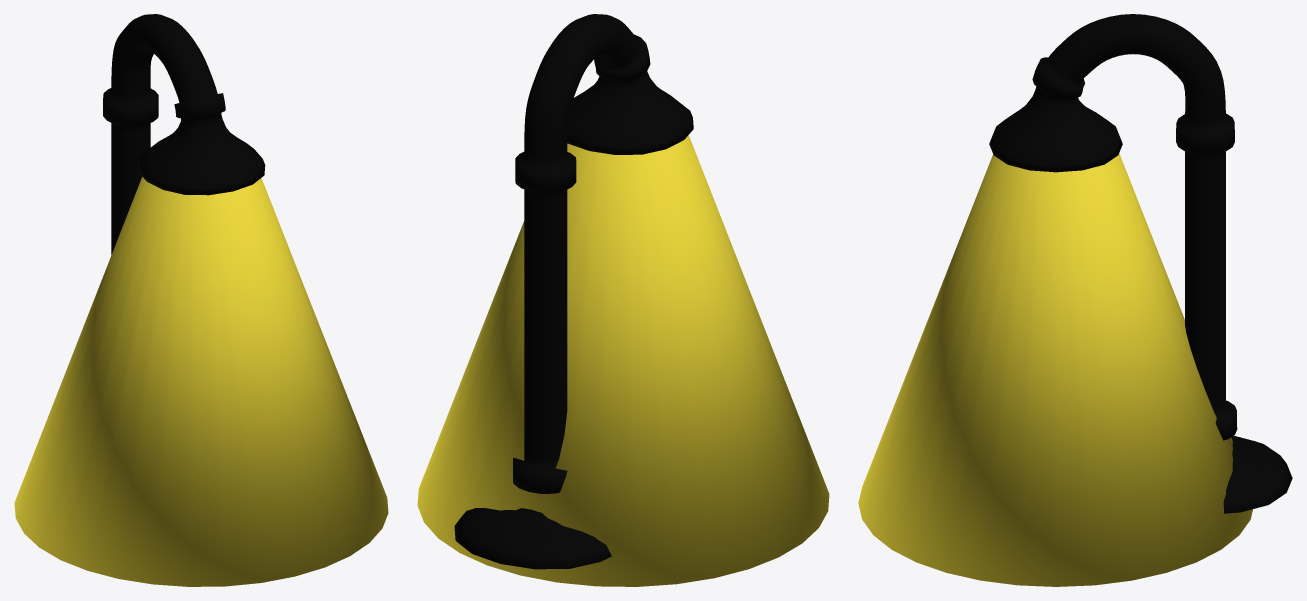
Rendered from Streetlamp.fbx.
3 views of the same model, side by side, from view 1: azimuth 30°, elevation 25°; view 2: azimuth 150°, elevation 25°; view 3: azimuth 270°, elevation 25° (orthographic). The views are drawn at different scales.
Visible parts, largest first — view 1: Lightone, Streetlight; view 2: Lightone, Streetlight; view 3: Lightone, Streetlight.
Boxes of the visible parts, left/top/right/bottom form: Lightone: left=14, top=177, right=388, bottom=586; Streetlight: left=103, top=14, right=265, bottom=254; Lightone: left=417, top=135, right=829, bottom=586; Streetlight: left=454, top=14, right=693, bottom=569; Lightone: left=858, top=153, right=1252, bottom=586; Streetlight: left=989, top=14, right=1292, bottom=513.
Bounding box in the file's own units: 1.6 × 2.2 × 1.75.
